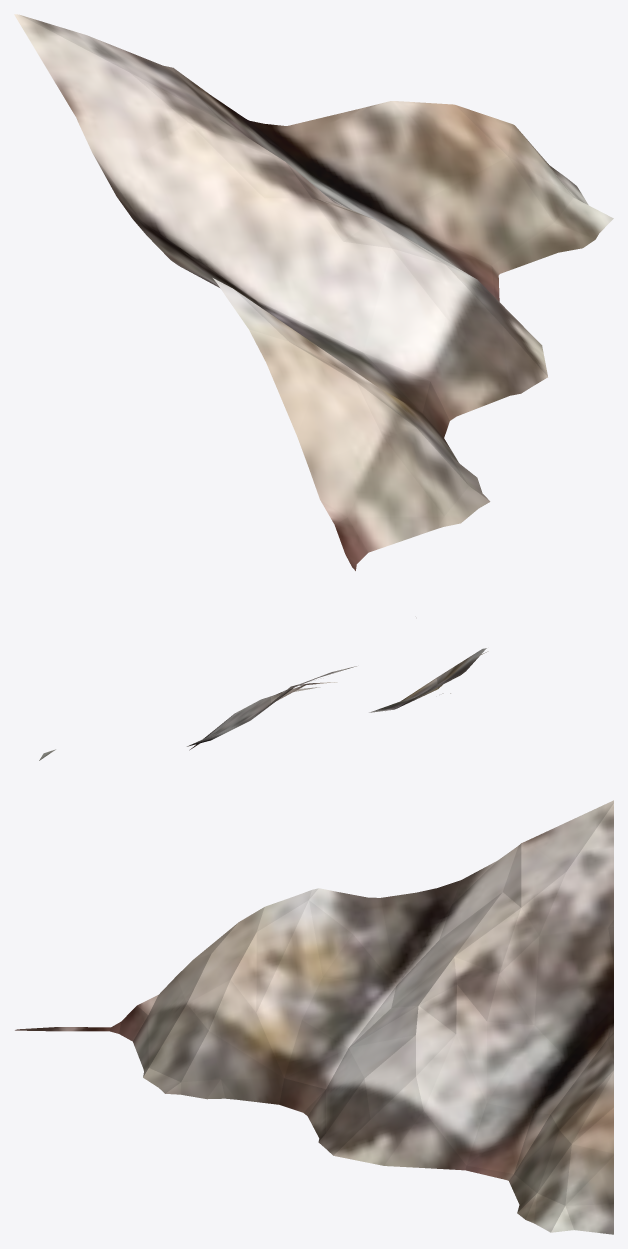
3 renders of one model, top to bottom at view 1: azimuth 30°, elevation 25°; view 2: azimuth 150°, elevation 25°; view 3: azimuth 270°, elevation 25°, orthographic. The views are drawn at different scales.
Size of the model in its own units: 0.3957 by 0.2077 by 0.4908.
1 material, 1 textured.
